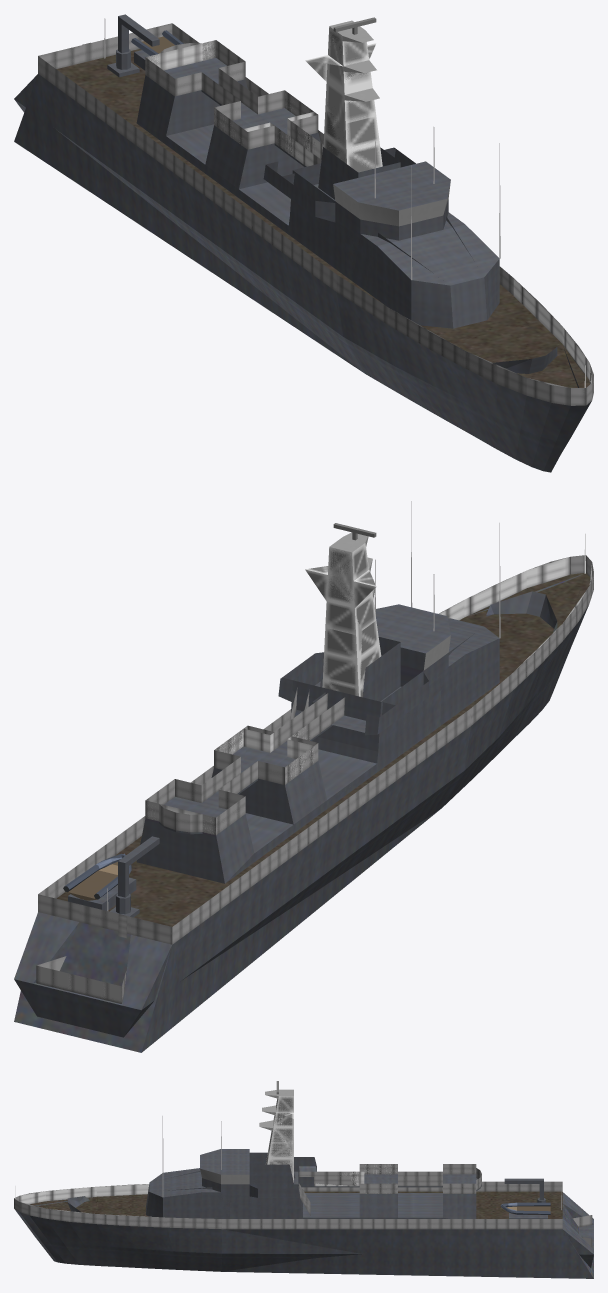
The picture shows the model from 3 angles, top to bottom: view 1: azimuth 30°, elevation 25°; view 2: azimuth 150°, elevation 25°; view 3: azimuth 270°, elevation 25°; orthographic projection. The views are drawn at different scales.
Parts seen in each view (by area): view 1: PC1; view 2: PC1; view 3: PC1.
Part boxes in pixels (x1,y1,x2,y2): PC1: (14, 14, 593, 472); PC1: (14, 501, 593, 1052); PC1: (14, 1081, 593, 1278).
Bounding box in the file's own units: 7.9 × 17.2 × 51.8.
Materials: 1 (1 with a texture image).
